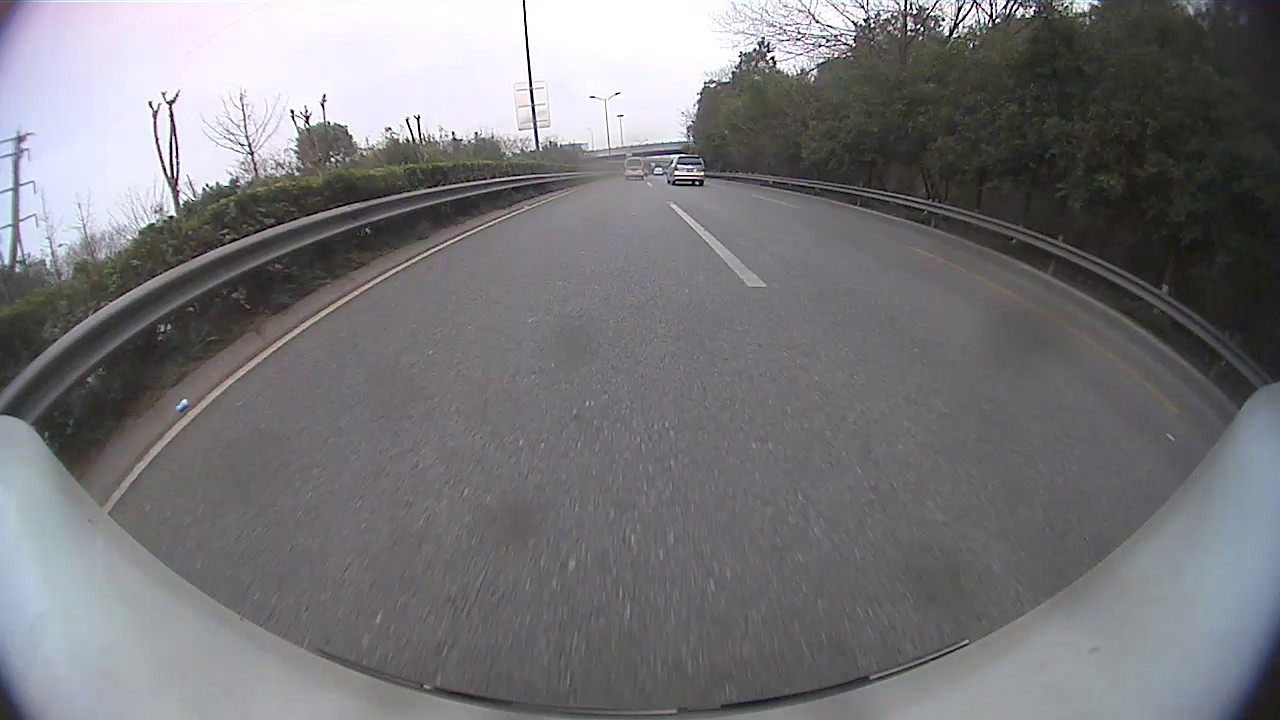car: (665, 155, 705, 185), (622, 156, 645, 180)
